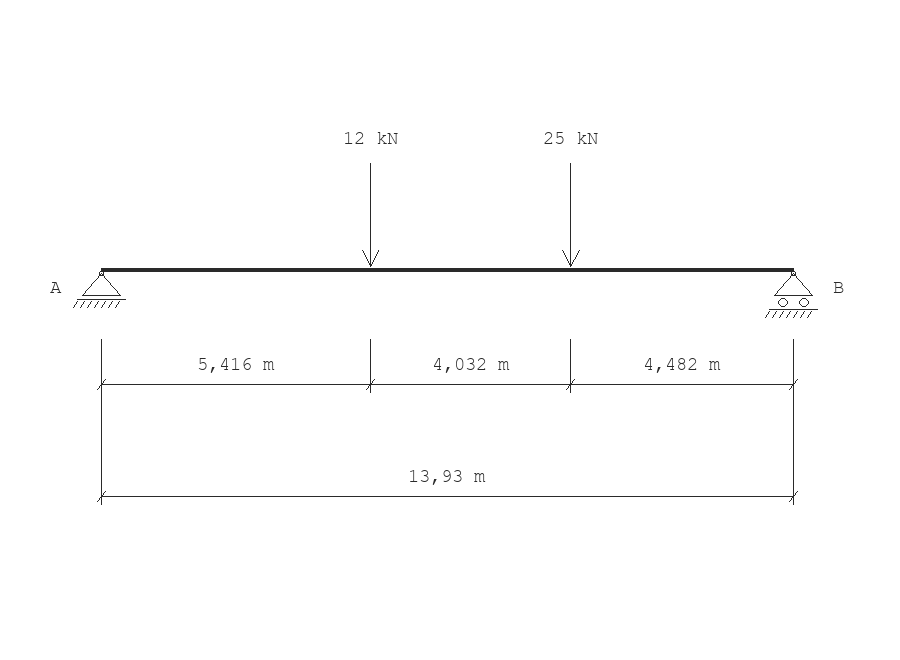pin_support: (73, 271, 126, 308)
point_load: (562, 163, 580, 267), (362, 163, 379, 267)
roller_support: (765, 271, 818, 318)
